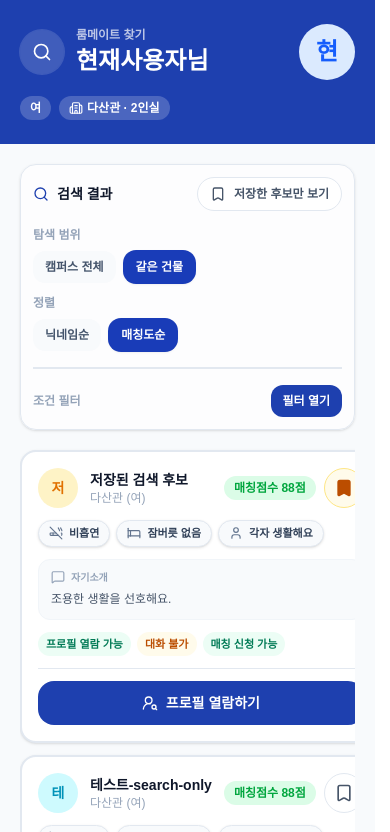
Scenario: RoommateListTab search shell › 저장한 후보 toggle은 별도 저장 리스트 카드 없이 search 결과를 bookmark 상태로 좁힌다
Check: the heading "저장된 검색 후보" is shown, box [90, 470, 188, 490]
Check: the heading "테스트-search-only" is shown, box [90, 775, 212, 795]
Click the switch labelled "저장한 후보만 보기". click: [270, 194]
box: [197, 177, 342, 211]
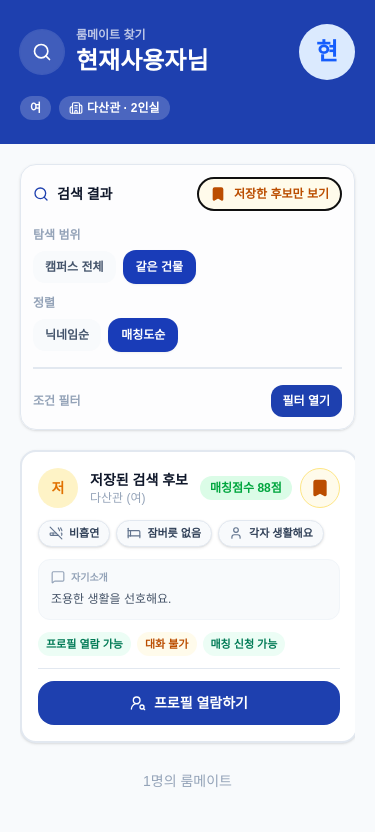
Check: the element named "정렬" is shown, box [33, 319, 177, 351]
Check: the heading "테스트-search-only" is gone
